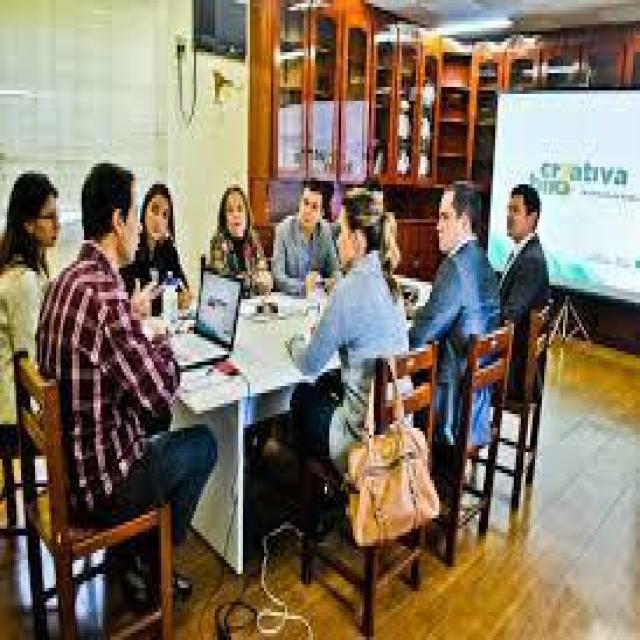person: (52, 122, 225, 626), (318, 191, 420, 539), (408, 167, 512, 483), (121, 146, 222, 397), (481, 174, 561, 469), (0, 146, 75, 442), (259, 163, 369, 320), (201, 163, 280, 334)
